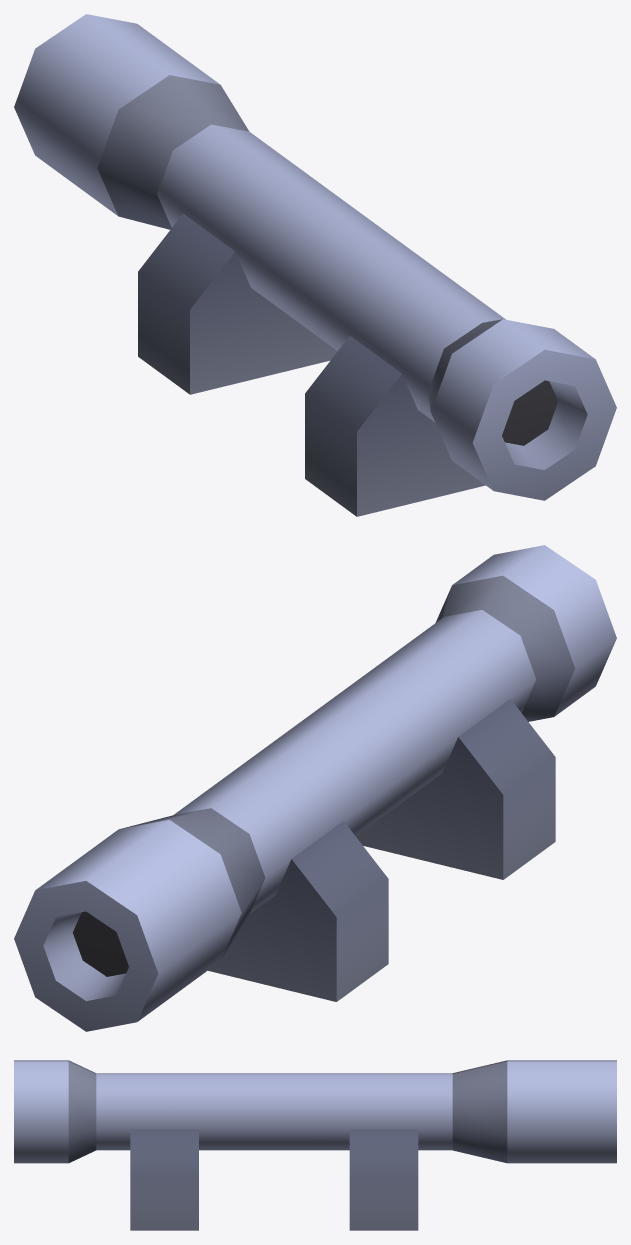
File: k-scope-large-a.glb
The picture shows the model from 3 angles, top to bottom: view 1: azimuth 30°, elevation 25°; view 2: azimuth 150°, elevation 25°; view 3: azimuth 270°, elevation 25°; orthographic projection. The views are drawn at different scales.
Parts seen in each view (by area): view 1: scope-large-a; view 2: scope-large-a; view 3: scope-large-a.
Boxes of the visible parts, x1,y1,x2,y2 form: scope-large-a: (14,14,616,516); scope-large-a: (14,545,616,1031); scope-large-a: (14,1060,616,1230).
Size of the model in its own units: 0.11 by 0.11 by 0.44.
Materials: 1 (1 with a texture image).
